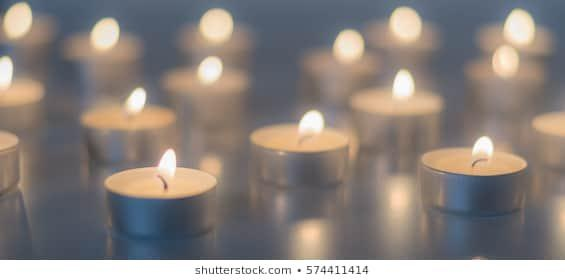fire: (155, 144, 177, 182), (391, 66, 414, 100)
